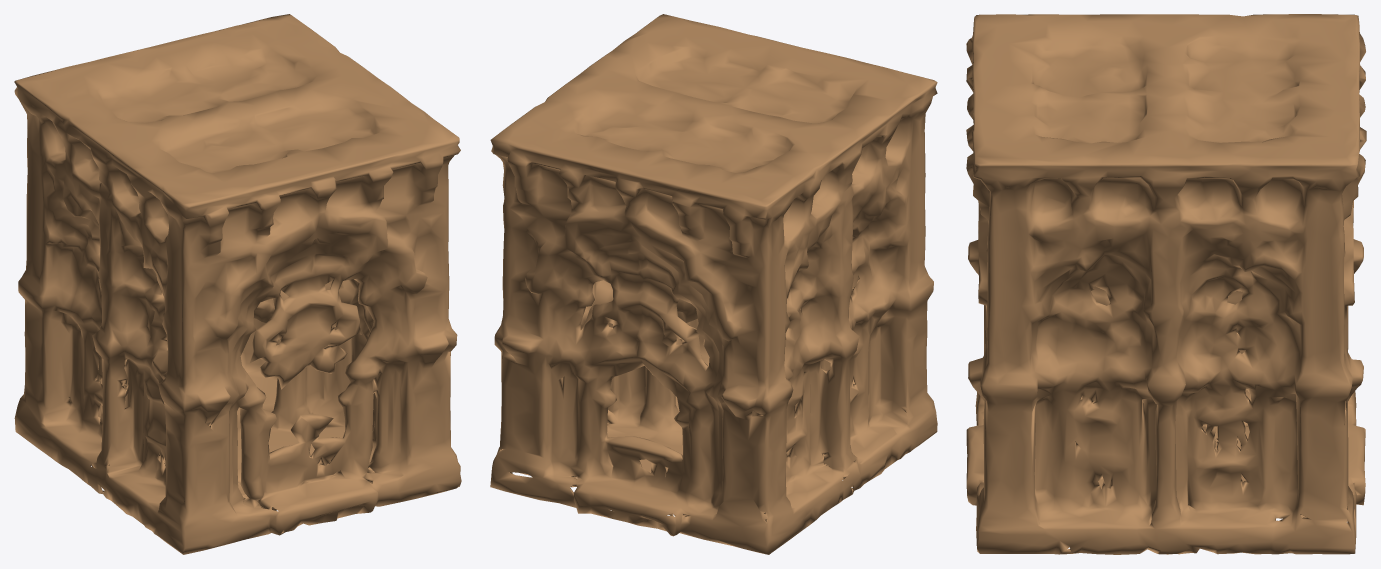
The model's file is Lotus Mahal.glb.
3 renders of one model, left to right at view 1: azimuth 30°, elevation 25°; view 2: azimuth 150°, elevation 25°; view 3: azimuth 270°, elevation 25°, orthographic. The views are drawn at different scales.
Parts seen in each view (by area): view 1: tmp80iyrf4q.ply; view 2: tmp80iyrf4q.ply; view 3: tmp80iyrf4q.ply.
Boxes of the visible parts, box(x1,y1,x2,y2) form: tmp80iyrf4q.ply: box(14, 14, 461, 554); tmp80iyrf4q.ply: box(490, 14, 937, 554); tmp80iyrf4q.ply: box(966, 14, 1366, 554).
Size of the model in its own units: 1.65 by 1.96 by 1.82.
